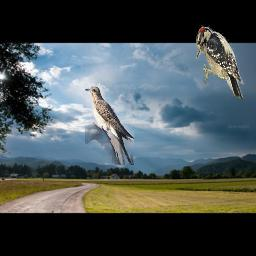Cuckoo: (86, 87, 135, 166)
Woodpecker: (196, 25, 246, 101)
